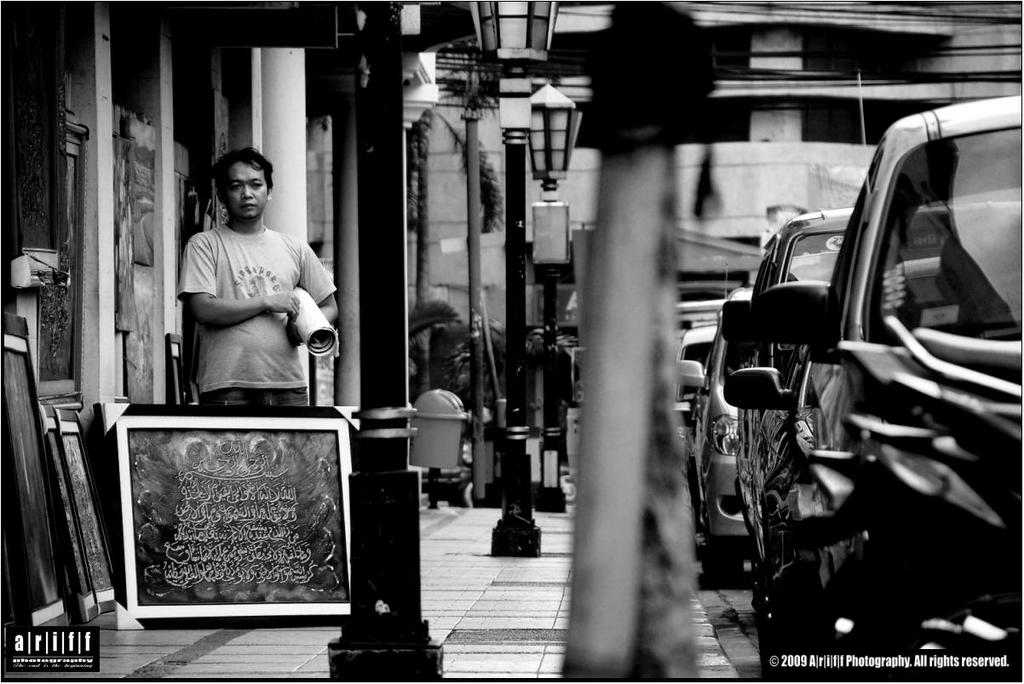Car: (756, 91, 1023, 666), (751, 202, 859, 528), (703, 295, 753, 581)
